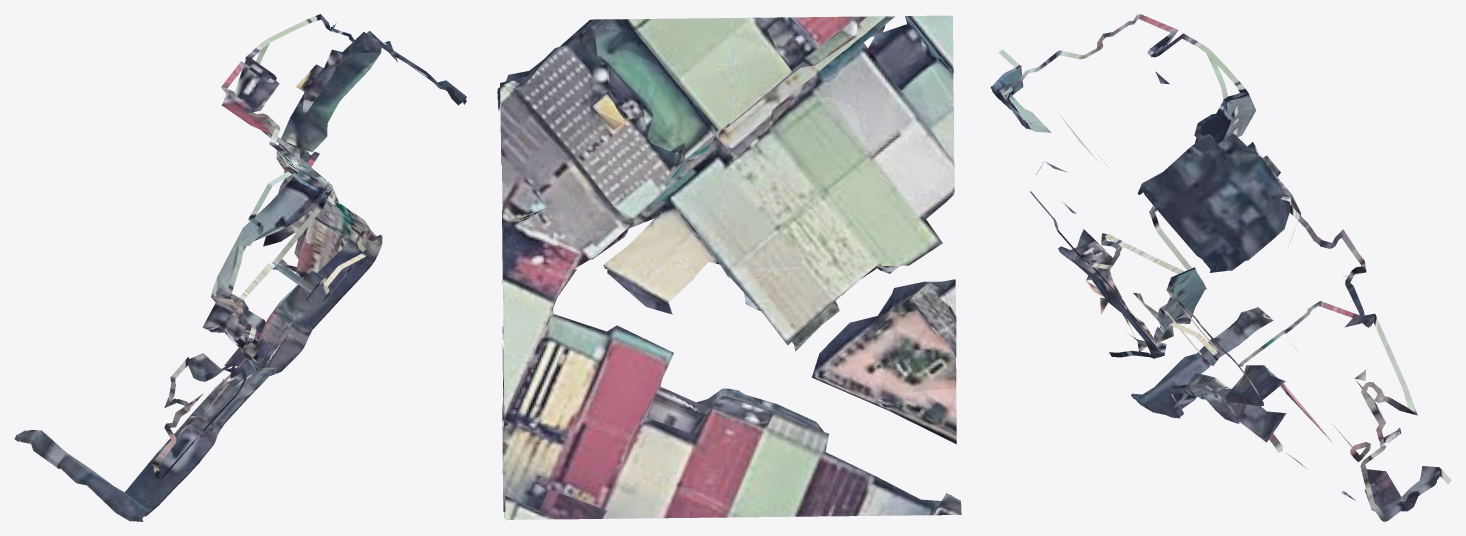
3 renders of one model, left to right at view 1: azimuth 30°, elevation 25°; view 2: azimuth 150°, elevation 25°; view 3: azimuth 270°, elevation 25°, orthographic. The views are drawn at different scales.
Size of the model in its own units: 43.26 by 40.1 by 38.52.
Materials: 2 (2 with a texture image).
